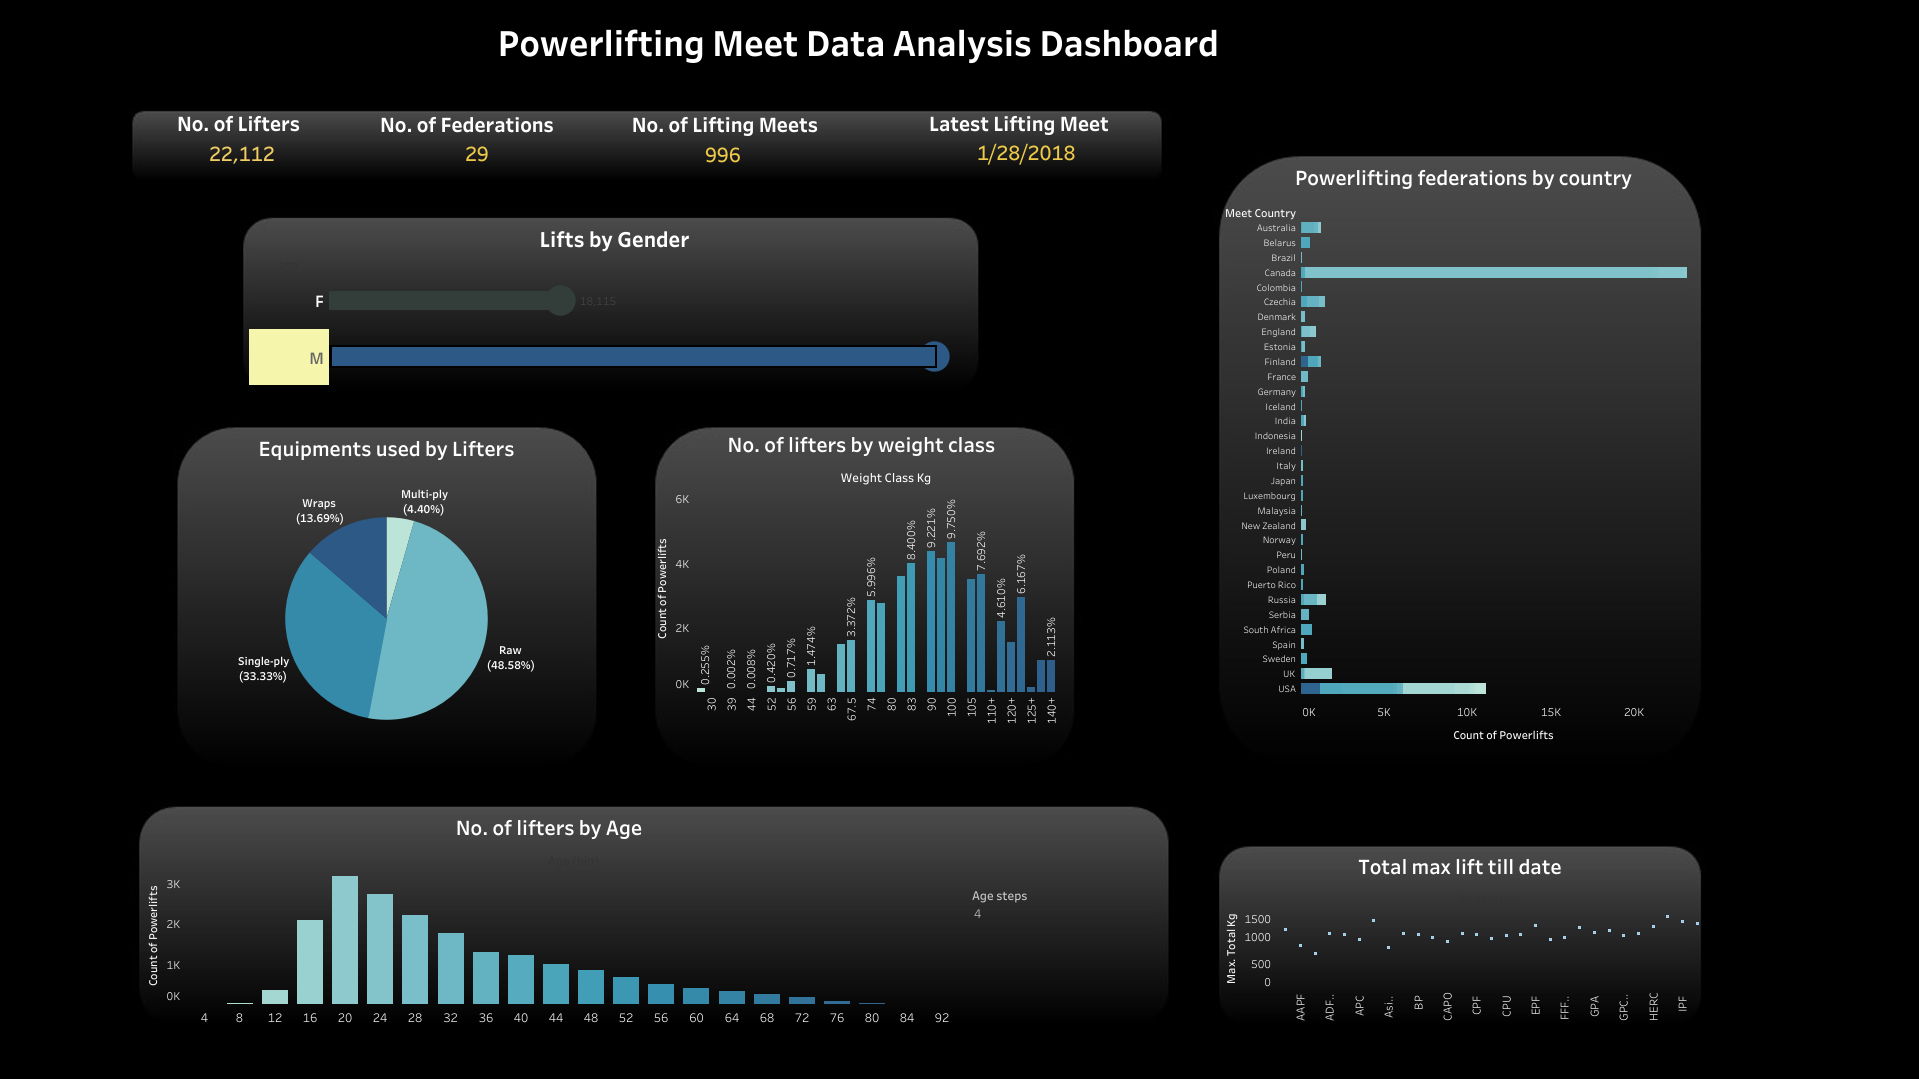

The dashboard page shown, as its layout file describes it:
{"tool":"tableau","page":{"name":"Powelifting Meet Data Analysis","canvas":[1920,1080],"ordinal":0},"visuals":[{"type":"text","box":[106,13,1505,56]},{"type":"image","param":"Image/dashboard template.jpg","box":[7,88,1911,986]},{"type":"text","box":[144,108,189,30]},{"type":"text","box":[926,108,186,30]},{"type":"text","box":[377,109,180,30]},{"type":"text","box":[629,109,192,30]},{"type":"worksheet","title":"Most recent meet","mark":"Automatic","box":[955,138,139,44]},{"type":"worksheet","title":"total no. of lifters","mark":"Text","box":[199,139,213,49]},{"type":"worksheet","title":"No. of Federations","mark":"Automatic","box":[433,139,194,62]},{"type":"worksheet","title":"No. of meets till date","mark":"Automatic","box":[685,140,89,63]},{"type":"worksheet","title":"Powerlifting federations by country","mark":"Bar","rows":["MeetCountry"],"cols":["Powerlifts_B43DB0E36EEB414384DAFC306D263A92"],"box":[1221,157,485,592]},{"type":"worksheet","title":"Lifts by Gender","mark":"Automatic","rows":["Sex"],"cols":["Powerlifts_B43DB0E36EEB414384DAFC306D263A92","Powerlifts_B43DB0E36EEB414384DAFC306D263A92"],"box":[249,218,731,167]},{"type":"worksheet","title":"No. of lifters by weight class","mark":"Bar","rows":["Powerlifts_B43DB0E36EEB414384DAFC306D263A92"],"cols":["WeightClassKg"],"box":[647,424,429,328]},{"type":"worksheet","title":"Equipments used by Lifters","mark":"Pie","box":[177,428,419,338]},{"type":"worksheet","title":"No. of lifters by Age","mark":"Automatic","rows":["Powerlifts_B43DB0E36EEB414384DAFC306D263A92"],"cols":["Age (bin)"],"box":[138,807,822,219]},{"type":"worksheet","title":"Total max lift till date","mark":"Heatmap","rows":["TotalKg"],"cols":["Federation"],"box":[1216,846,488,176]},{"type":"parameter","param":"[Parameters].[Parameter 1]","box":[972,885,160,126]}]}

Visuals, with their boxes in screenshot pixels (x1, y1, x2, y2), scaled from the page's 1920x1080 canvas onto the 1919x1079 screenshot:
text: left=106, top=13, right=1610, bottom=69
image: left=7, top=88, right=1917, bottom=1073
text: left=144, top=108, right=333, bottom=138
text: left=926, top=108, right=1111, bottom=138
text: left=377, top=109, right=557, bottom=139
text: left=629, top=109, right=821, bottom=139
"Most recent meet" worksheet: left=955, top=138, right=1093, bottom=182
"total no. of lifters" worksheet (Text marks): left=199, top=139, right=412, bottom=188
"No. of Federations" worksheet: left=433, top=139, right=627, bottom=201
"No. of meets till date" worksheet: left=685, top=140, right=774, bottom=203
"Powerlifting federations by country" worksheet (Bar marks): left=1220, top=157, right=1705, bottom=748
"Lifts by Gender" worksheet: left=249, top=218, right=979, bottom=385
"No. of lifters by weight class" worksheet (Bar marks): left=647, top=424, right=1075, bottom=751
"Equipments used by Lifters" worksheet (Pie marks): left=177, top=428, right=596, bottom=765
"No. of lifters by Age" worksheet: left=138, top=806, right=960, bottom=1025
"Total max lift till date" worksheet (Heatmap marks): left=1215, top=845, right=1703, bottom=1021
parameter: left=971, top=884, right=1131, bottom=1010
